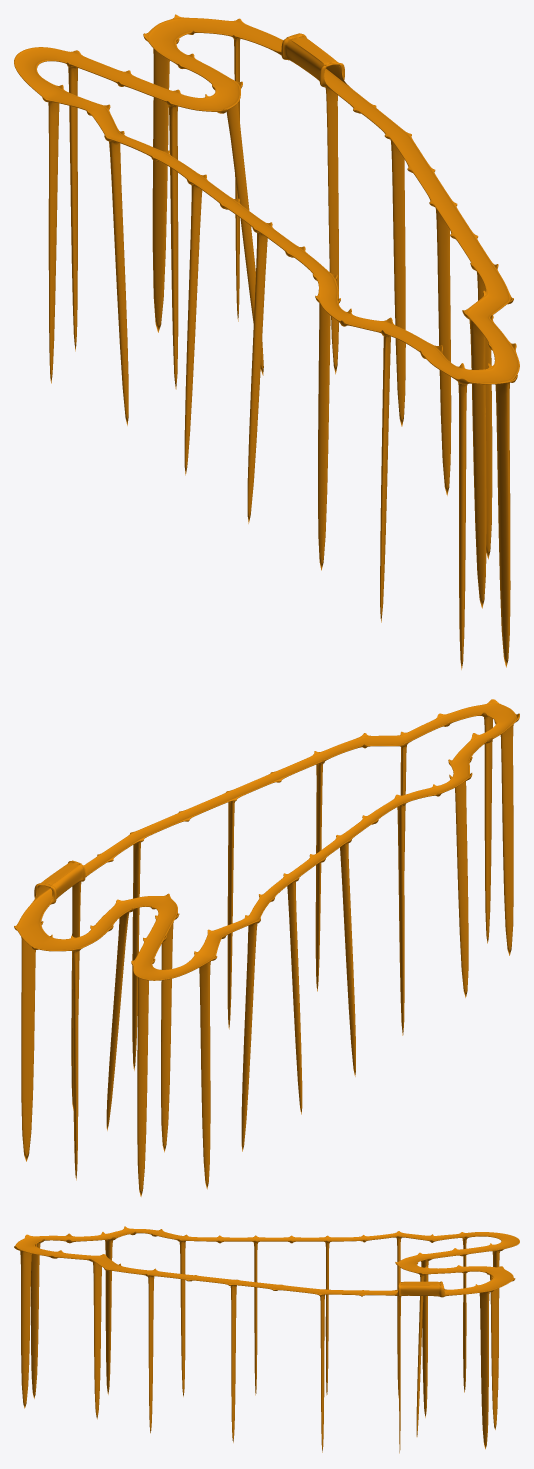
Rendered from Track_v1.fbx.
The picture shows the model from 3 angles, top to bottom: view 1: azimuth 30°, elevation 25°; view 2: azimuth 150°, elevation 25°; view 3: azimuth 270°, elevation 25°; orthographic projection. The views are drawn at different scales.
Visible parts, largest first — view 1: Track2; view 2: Track2; view 3: Track2.
Part boxes in pixels (box(x1,y1,x2,y2)): Track2: box(14, 14, 519, 669); Track2: box(14, 699, 519, 1196); Track2: box(14, 1226, 519, 1453).
Bounding box in the file's own units: 44.41 × 51.97 × 140.
